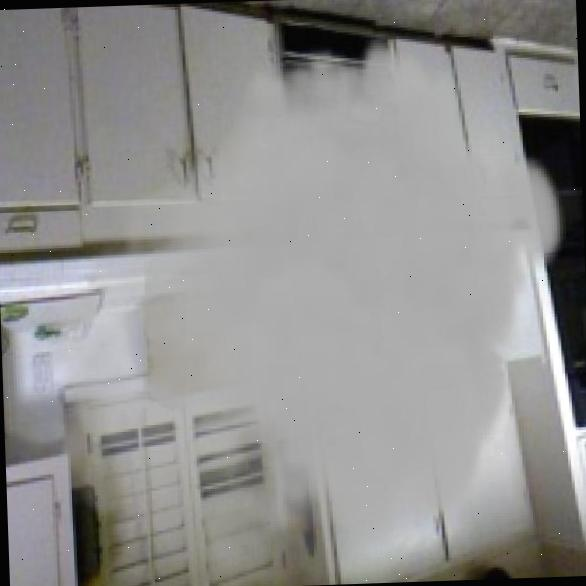smoke: (13, 27, 581, 586)
